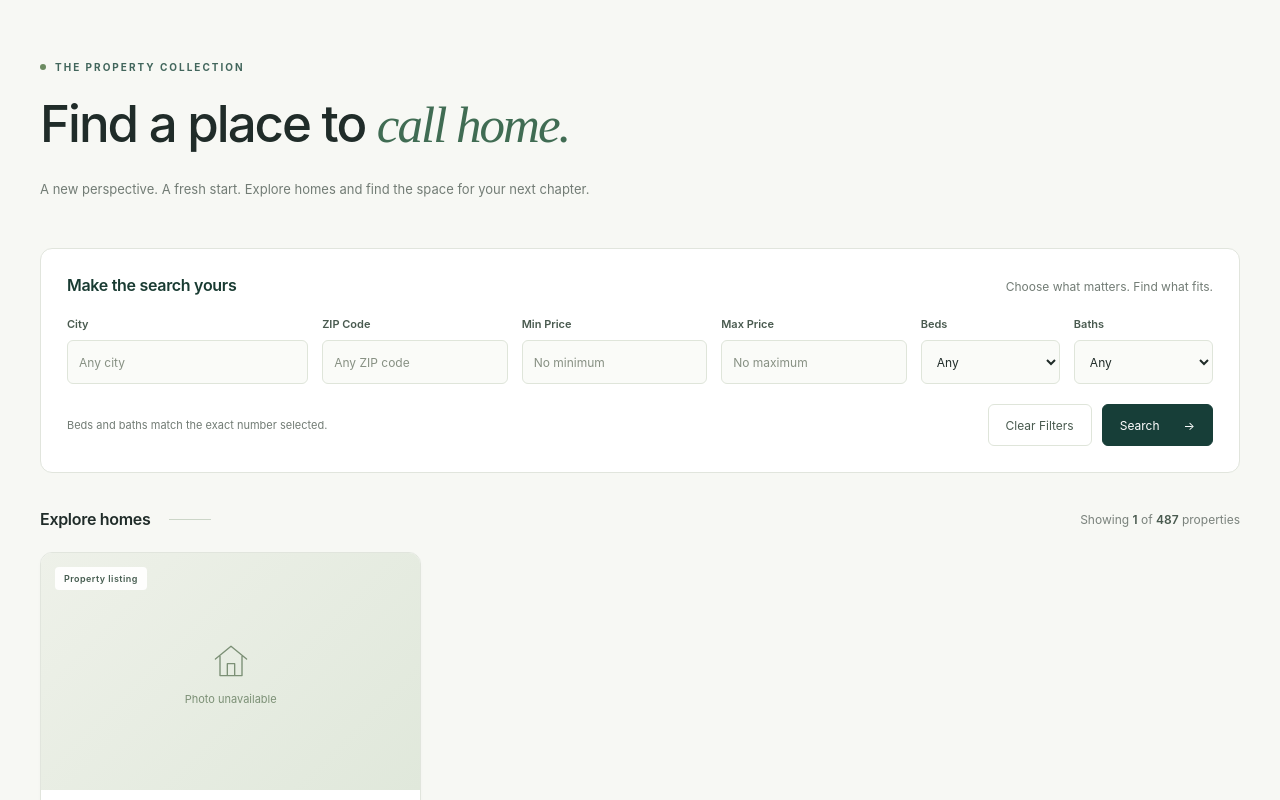
ignores stale success and loading updates when old requests finish after the latest search
Type "Irvine" into the field labelled "City" at (188, 362), box [67, 340, 308, 384]
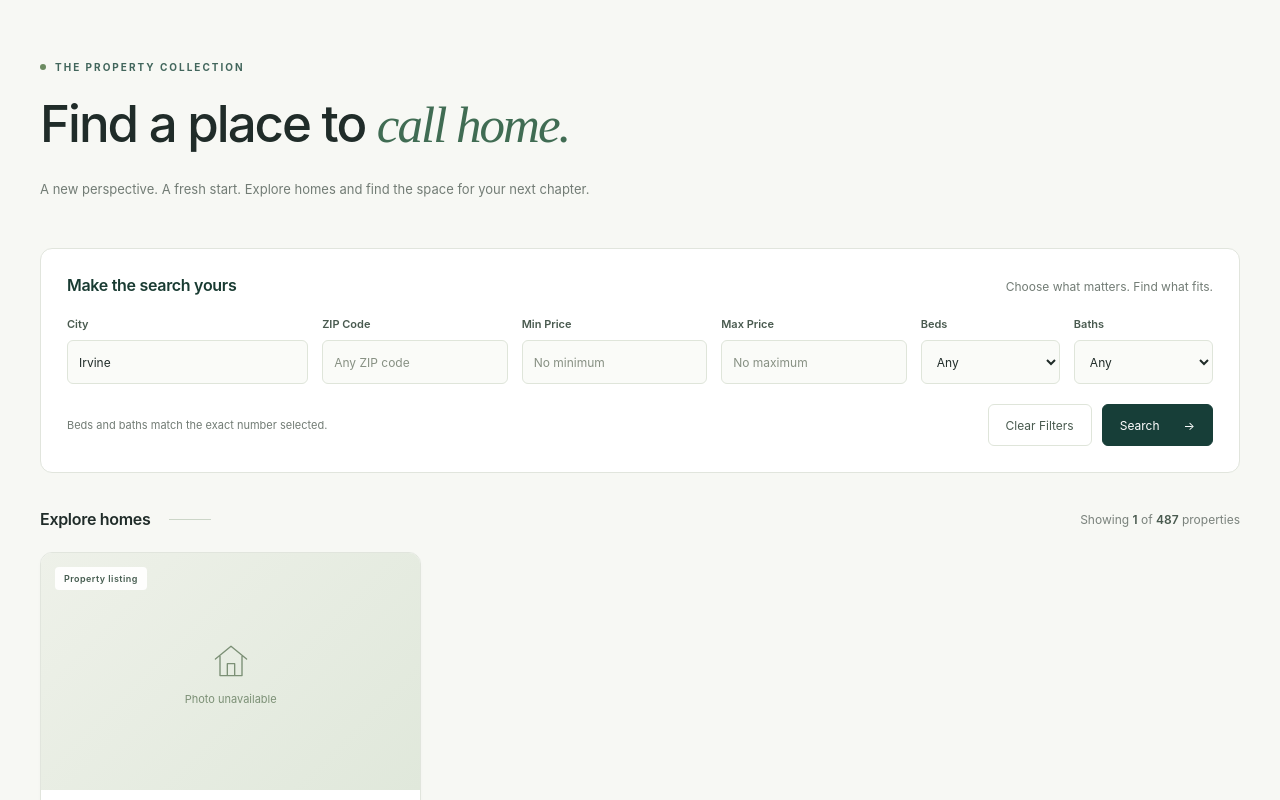
Click the button "Search →" at (1157, 425), box [1102, 404, 1213, 446]
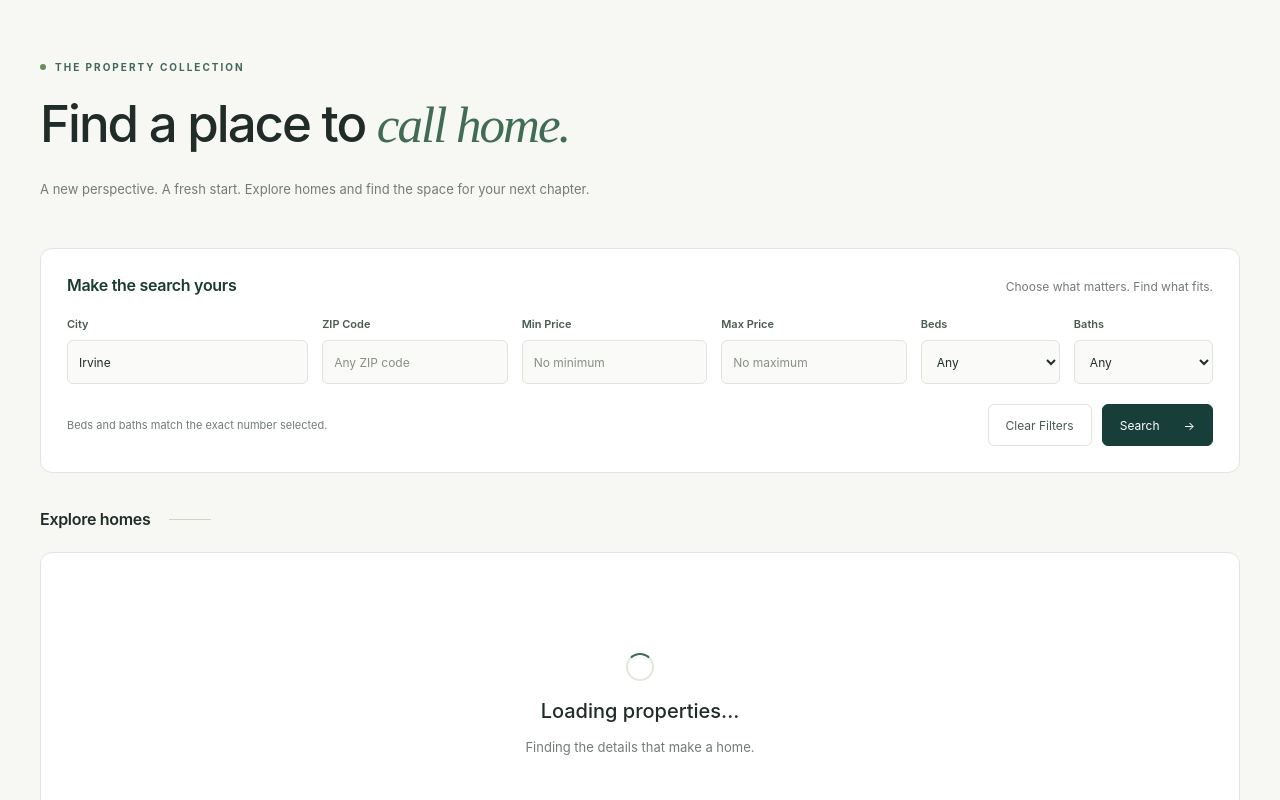
Click the button "Clear Filters" at (1040, 425), box [988, 404, 1092, 446]
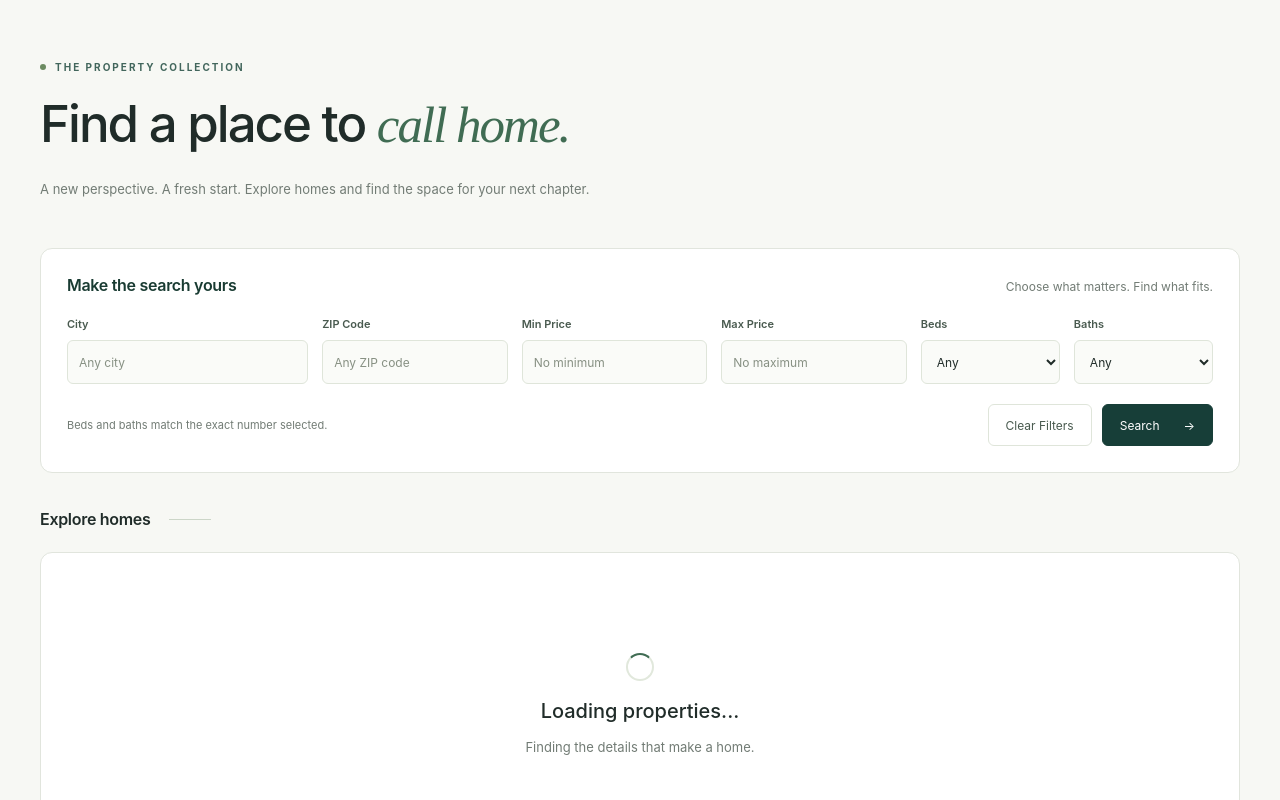
Type "Pasadena" into the field labelled "City" at (188, 362), box [67, 340, 308, 384]
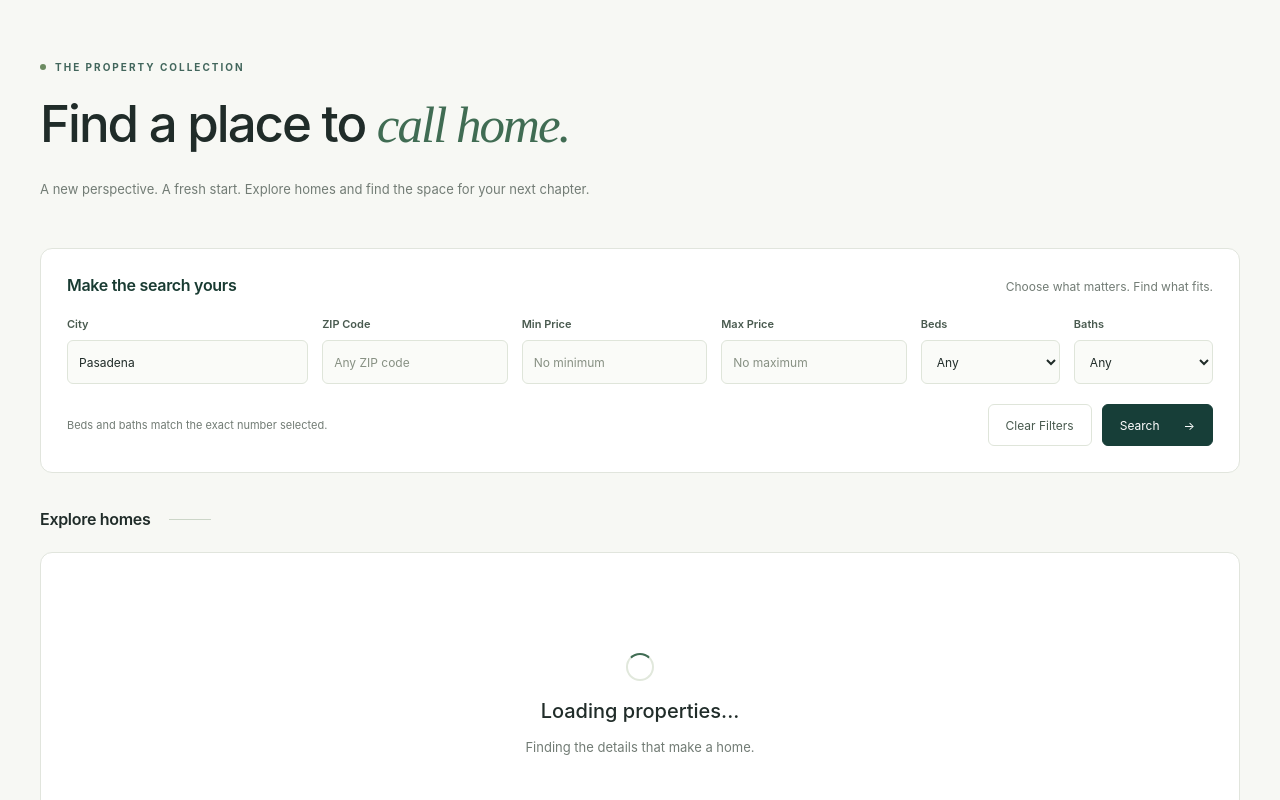
Click the button "Search →" at (1157, 425), box [1102, 404, 1213, 446]
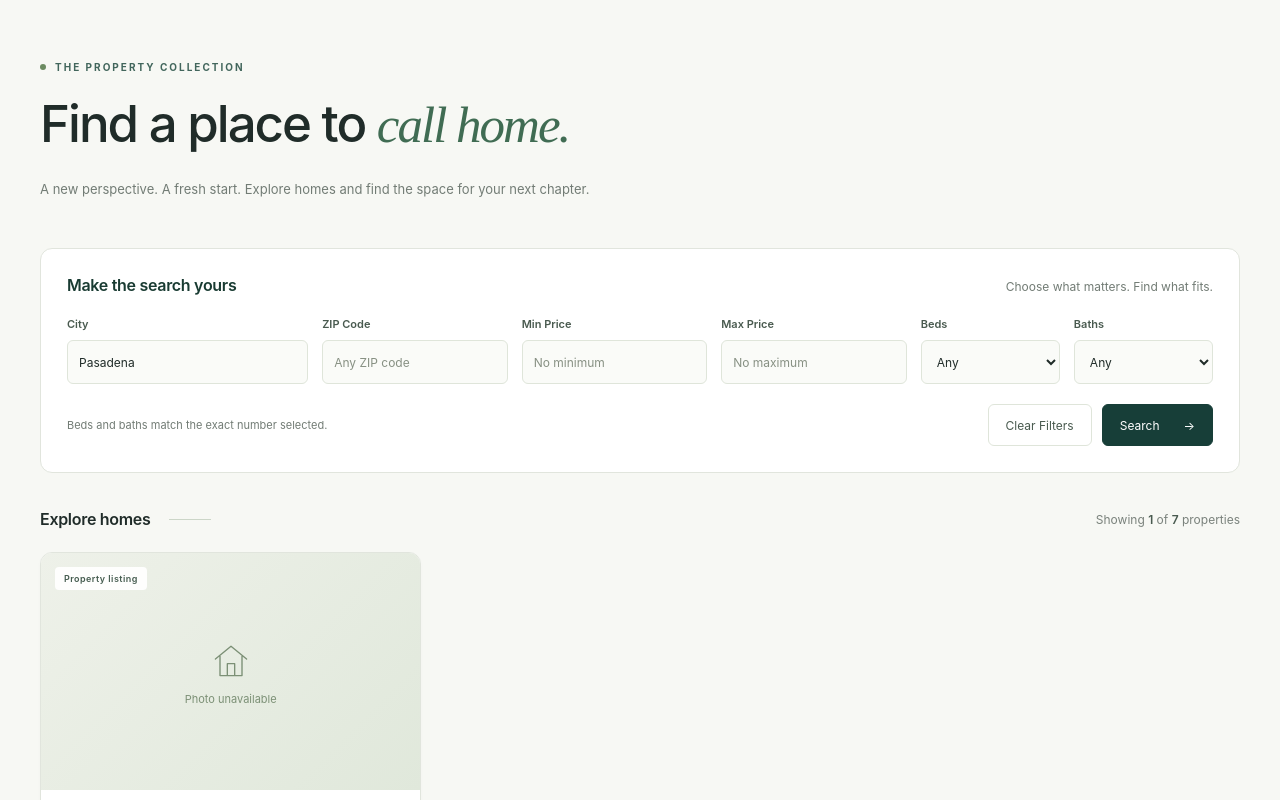
Expected: the button "Clear Filters" is enabled, [988, 404, 1092, 446]
Expected: the message reads "Showing 1 of 7 properties", [1096, 512, 1240, 527]
Expected: the heading "Loading properties..." is gone
